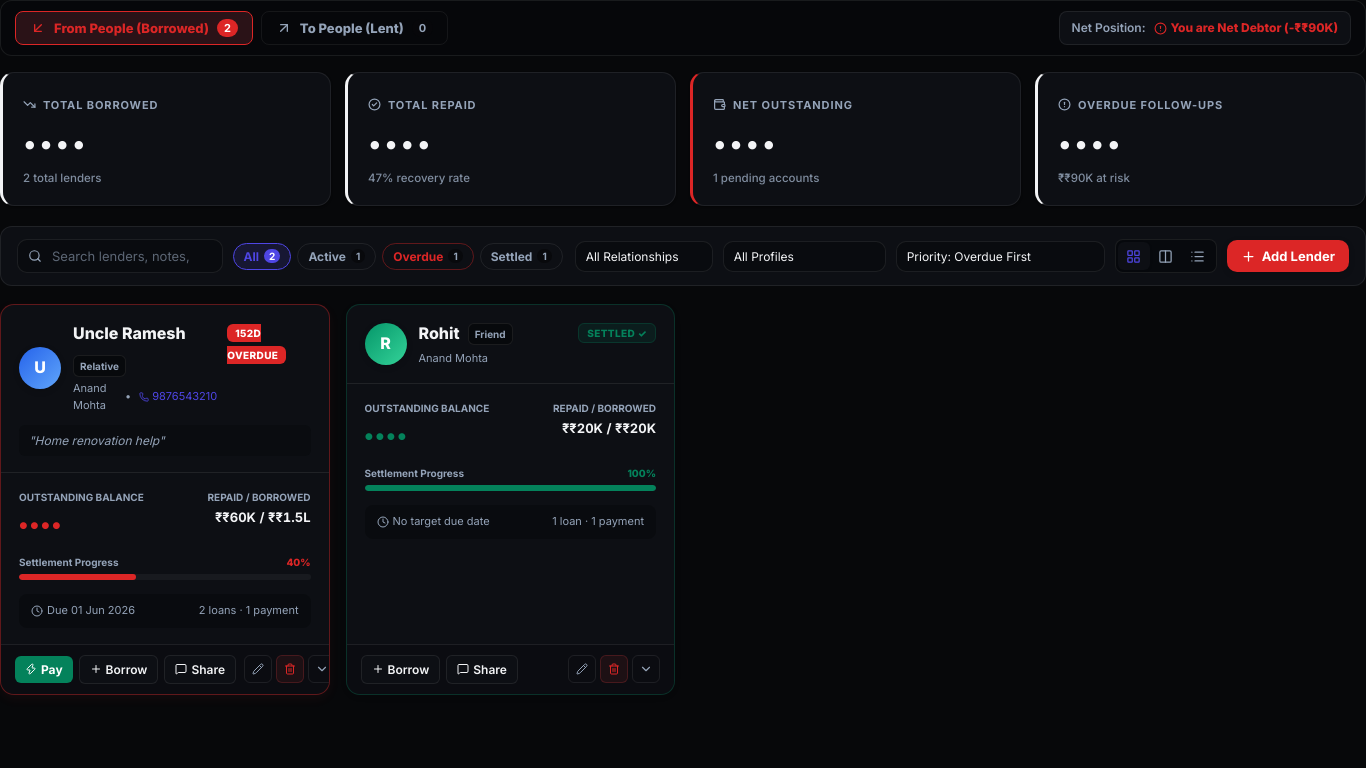
Scenario: Informal Loans Redesign (From People & To People) › InformalLoanSection (From People / Borrowed Mode) › supports searching lenders by name and note
The width and height of the screenshot is (1366, 768).
Type "renovation" into the field with placeholder "Search lenders, notes, phone..." at [120, 256], box [17, 239, 223, 273]
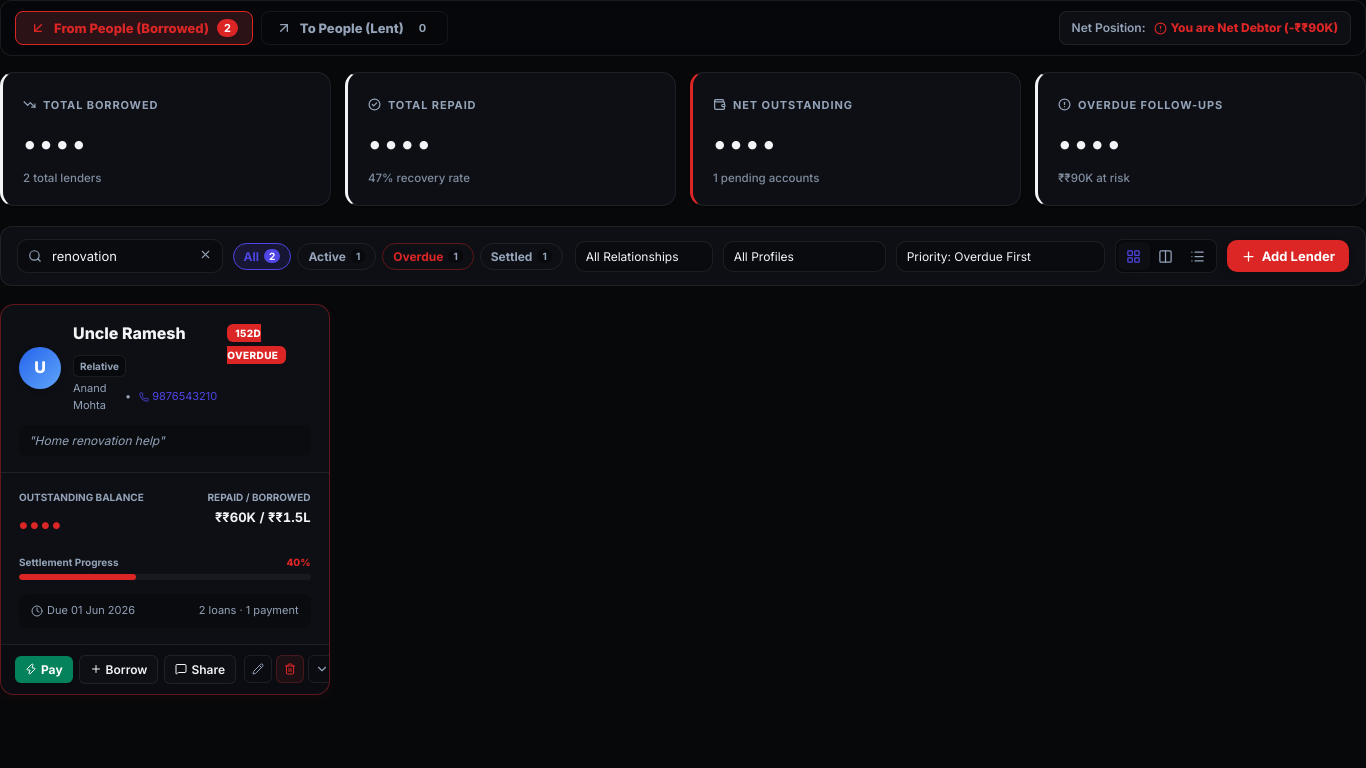
Expected: the text "Uncle Ramesh" is shown, [73, 321, 186, 347]
Result: the text "Rohit" is gone
